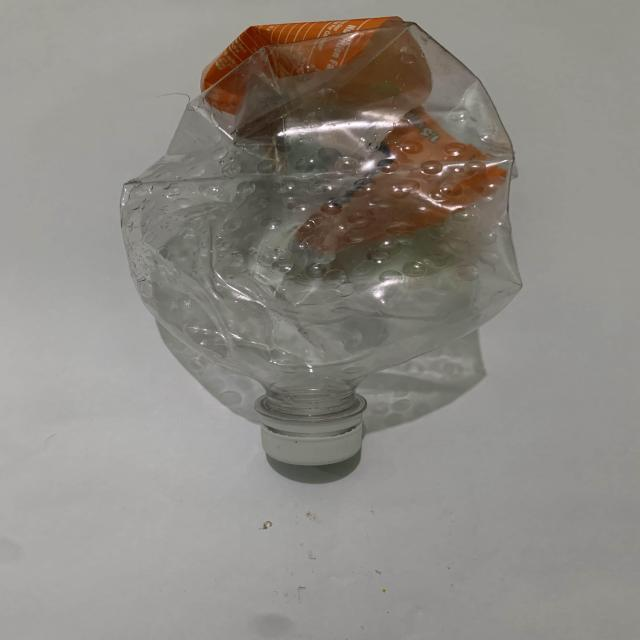bottle: (114, 16, 540, 482)
